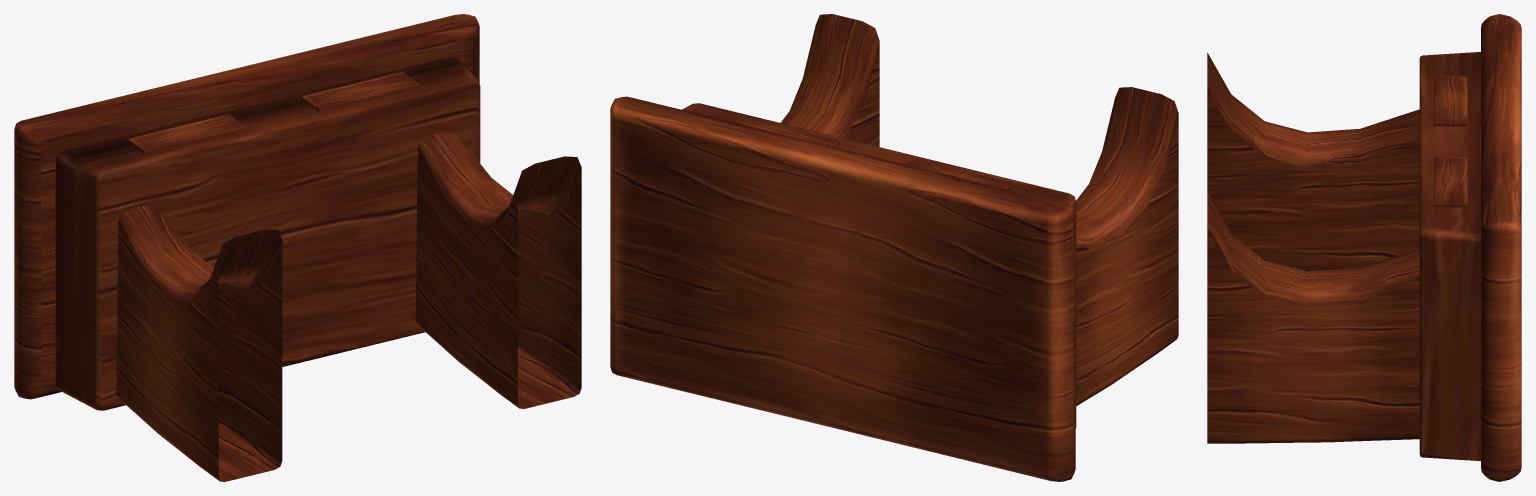
Rendered from Escritorio Fin.FBX.
The picture shows the model from 3 angles, left to right: view 1: azimuth 30°, elevation 25°; view 2: azimuth 150°, elevation 25°; view 3: azimuth 270°, elevation 25°; orthographic projection. The views are drawn at different scales.
Visible parts, largest first — view 1: Escritorio; view 2: Escritorio; view 3: Escritorio.
Part boxes in pixels (bbox=[...]): Escritorio: bbox=[14, 14, 581, 481]; Escritorio: bbox=[610, 14, 1178, 481]; Escritorio: bbox=[1207, 14, 1521, 481].
Bounding box in the file's own units: 80.9 × 45.8 × 50.39.
1 material, 1 textured.
